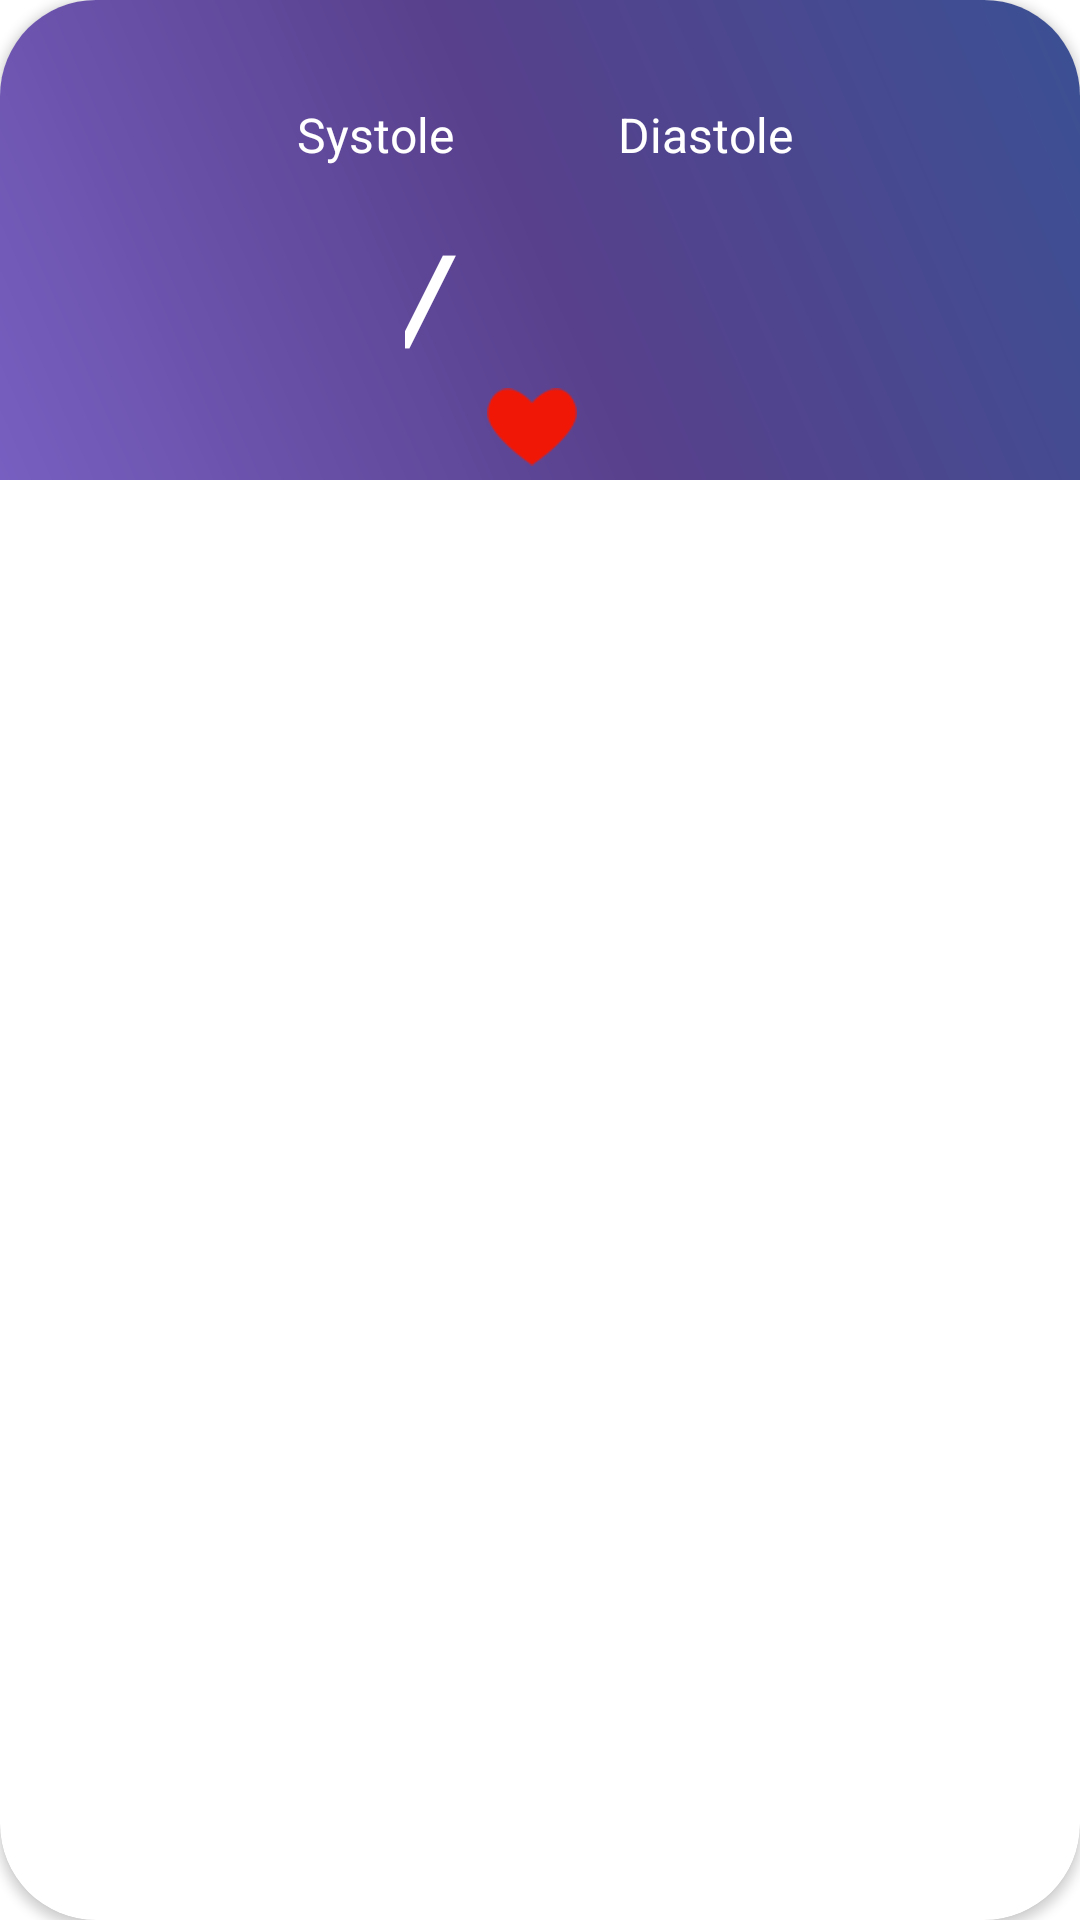

Locate icon controls on the screen. Image size 1080 x 1920, boxes as (x1, y1, x2, y2).
corazon: (487, 388, 577, 466)
